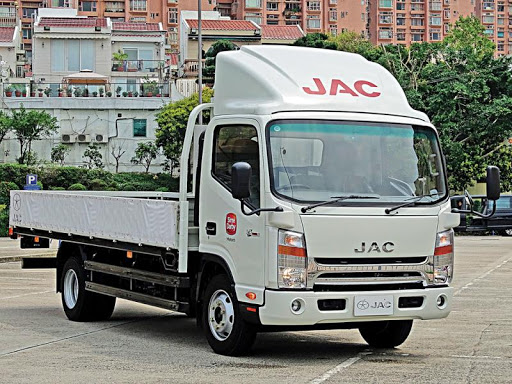vehicle_s: (4, 35, 464, 369)
